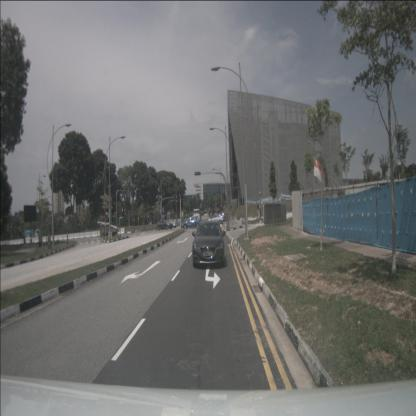movable_object-barrier: (86, 232, 92, 238), (73, 233, 79, 239), (91, 231, 97, 237), (97, 231, 103, 237), (79, 232, 85, 238), (25, 237, 30, 244), (30, 237, 35, 243), (47, 236, 52, 242), (119, 228, 125, 233), (42, 236, 47, 242), (52, 235, 57, 241), (63, 234, 68, 240), (57, 235, 63, 240), (68, 234, 73, 240), (34, 236, 39, 242), (13, 240, 18, 245), (21, 238, 25, 244), (2, 240, 6, 246), (0, 240, 3, 247), (17, 239, 21, 244), (10, 240, 14, 244), (8, 240, 12, 244), (5, 240, 8, 245)
vehicle-car: (192, 220, 226, 269), (182, 218, 203, 230), (157, 219, 173, 230), (207, 214, 224, 224), (219, 213, 227, 221), (171, 220, 176, 228)
vehicle-truck: (100, 222, 119, 237), (23, 229, 40, 240), (193, 208, 201, 221)
